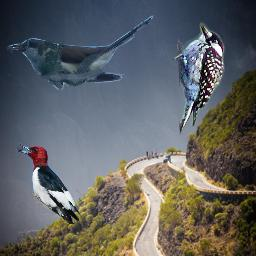Cuckoo: (7, 15, 158, 90)
Woodpecker: (162, 19, 232, 140), (15, 142, 83, 224)
